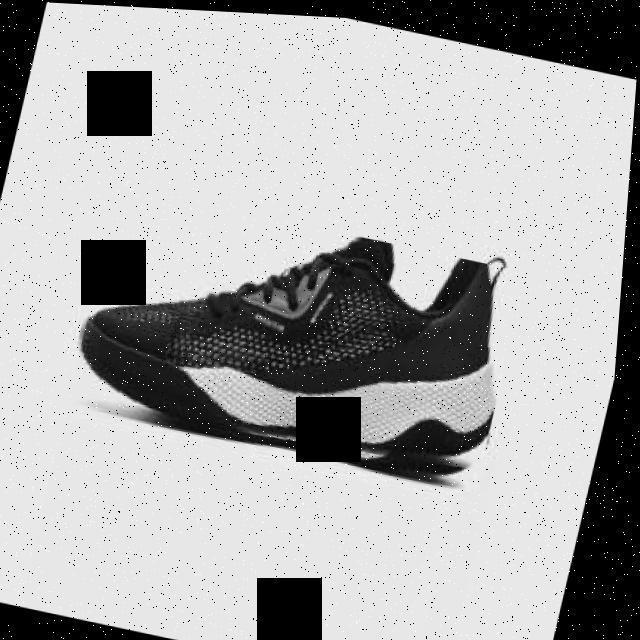shoe: (65, 182, 534, 488)
